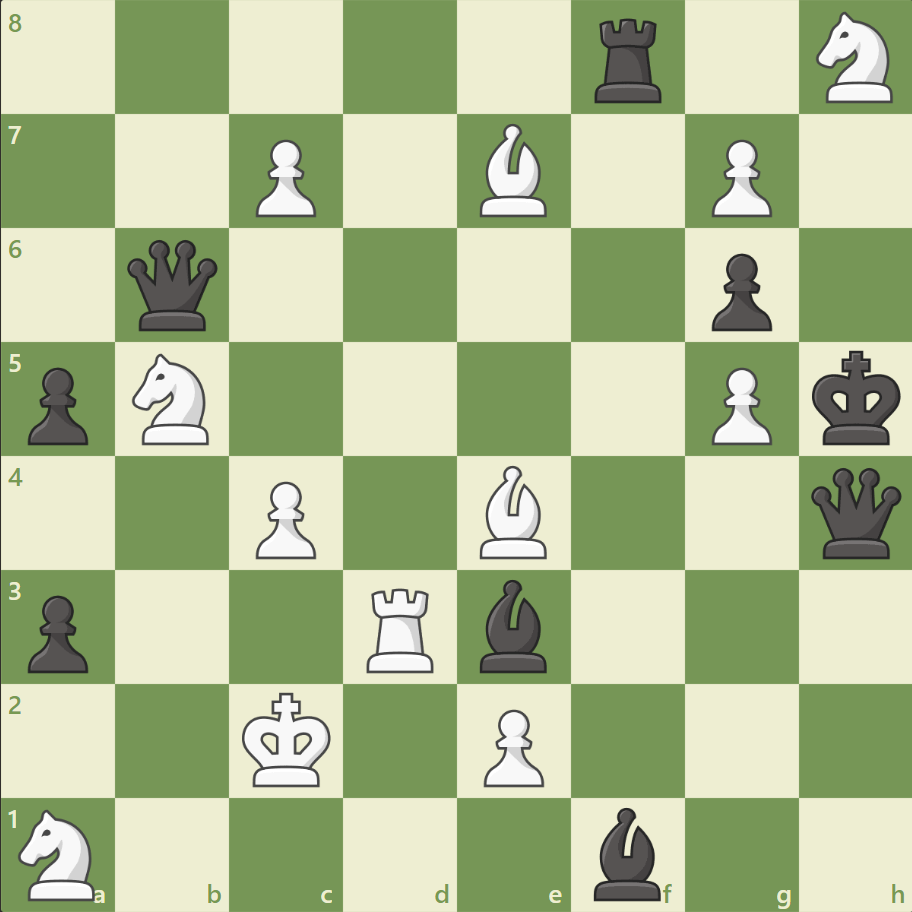B: (471, 460, 555, 563), (471, 120, 555, 222)
K: (238, 685, 338, 793)
N: (124, 348, 222, 450), (806, 7, 903, 110), (11, 802, 108, 904)
P: (247, 132, 322, 223), (701, 132, 776, 223), (701, 359, 776, 450), (247, 473, 322, 564), (474, 700, 549, 791)
R: (360, 579, 442, 676)
b: (585, 801, 669, 904), (471, 574, 555, 676)
k: (806, 344, 906, 452)
p: (701, 246, 776, 337), (20, 359, 95, 450), (20, 586, 95, 677)
q: (124, 236, 223, 335), (805, 463, 904, 562)
r: (587, 12, 670, 109)
